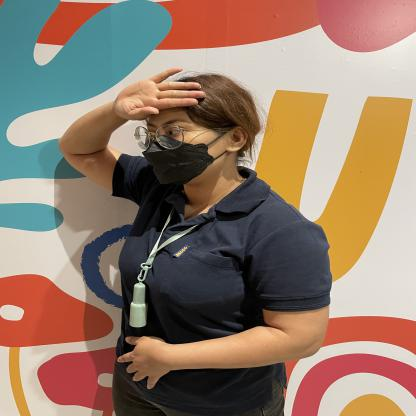Sick: (69, 60, 240, 129)
